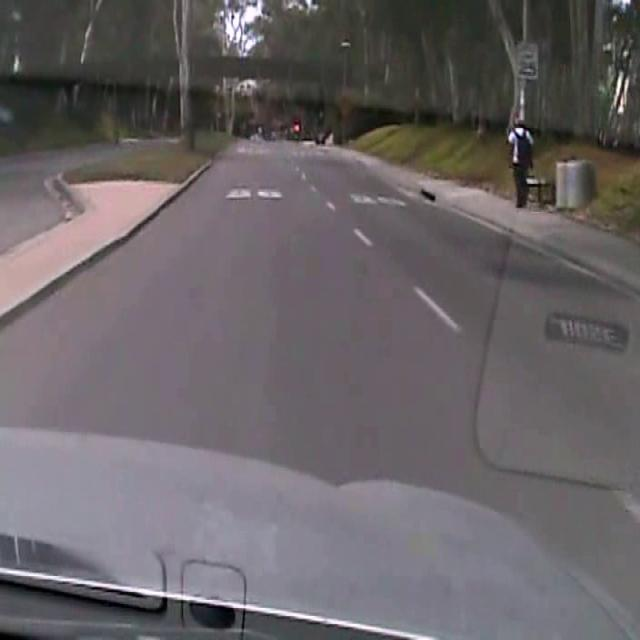speedLimit25: (516, 39, 539, 80)
